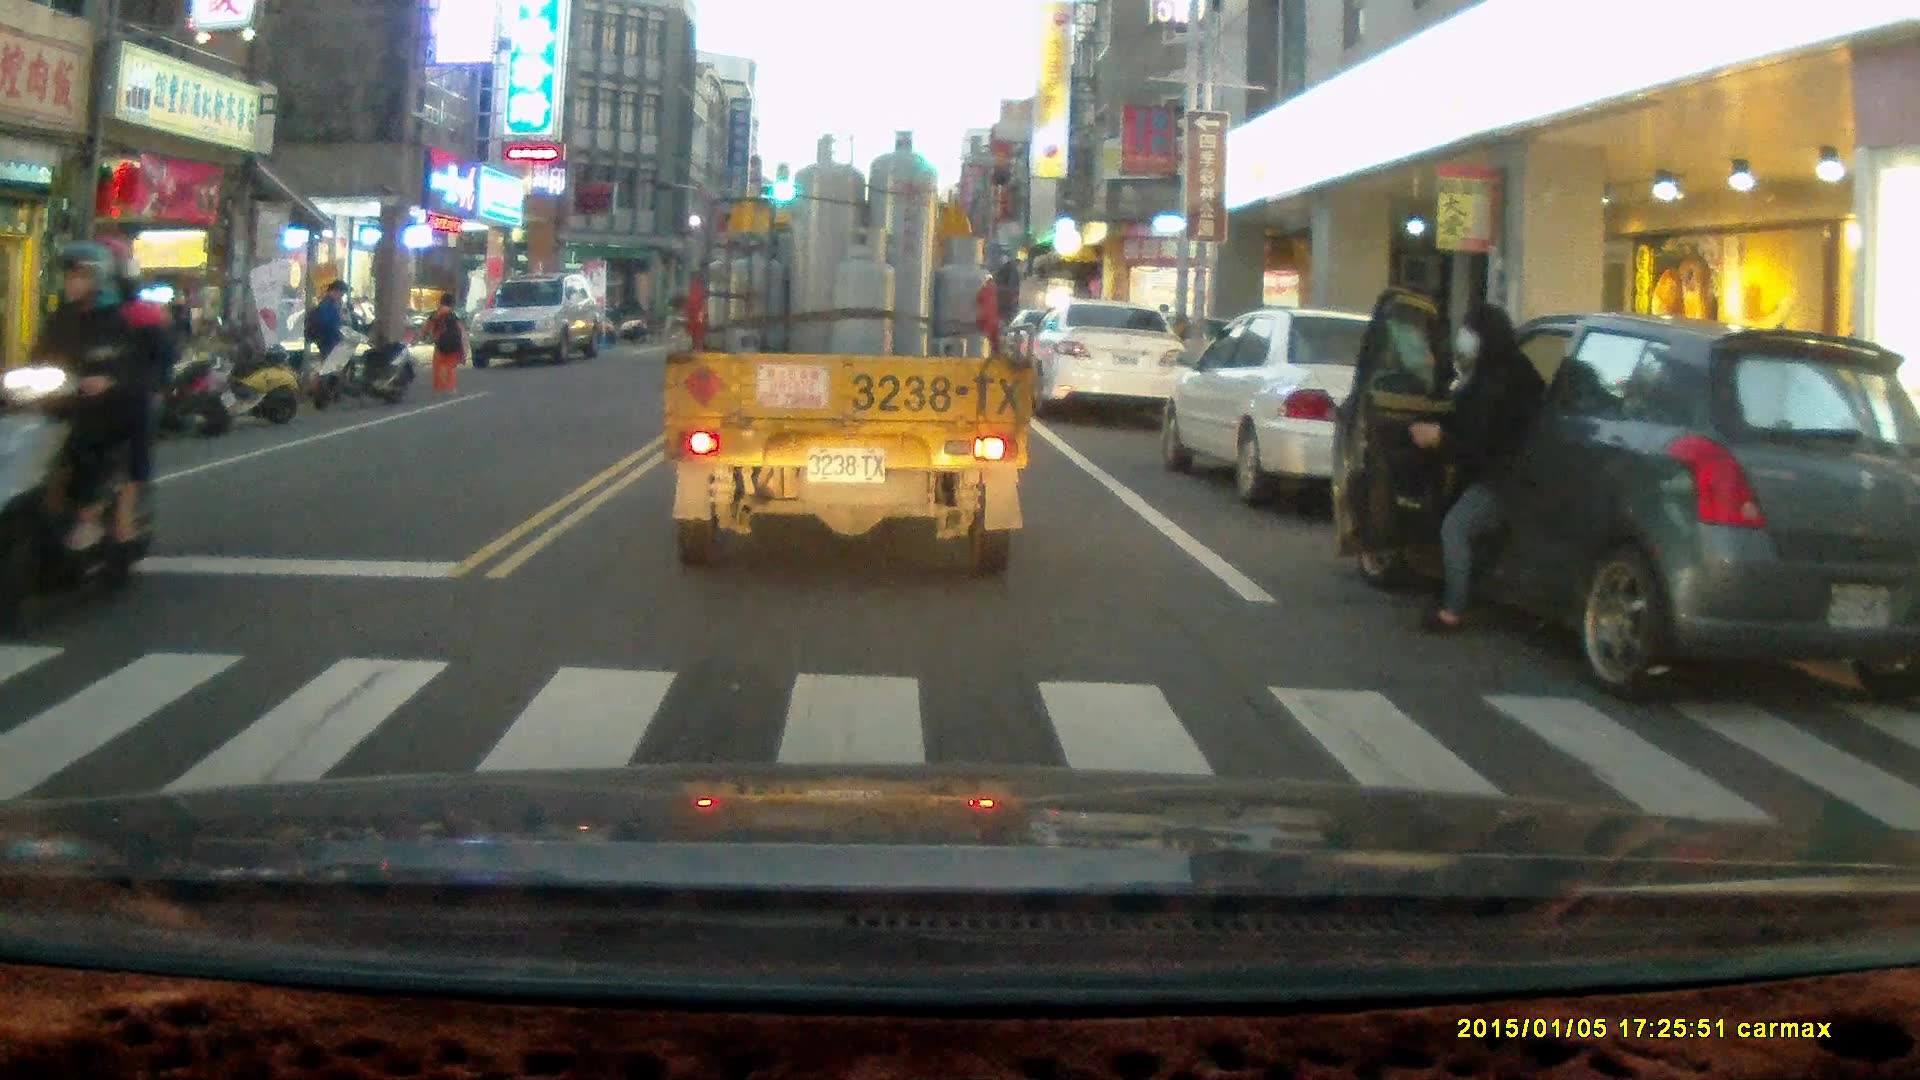pedestrian: (1403, 300, 1547, 638), (413, 289, 467, 391), (304, 277, 348, 397), (154, 283, 192, 398)
rider: (0, 236, 168, 628)
vehicle: (1342, 316, 1920, 705), (660, 127, 1037, 578), (1174, 312, 1506, 511), (1022, 299, 1193, 422), (468, 280, 609, 367)
